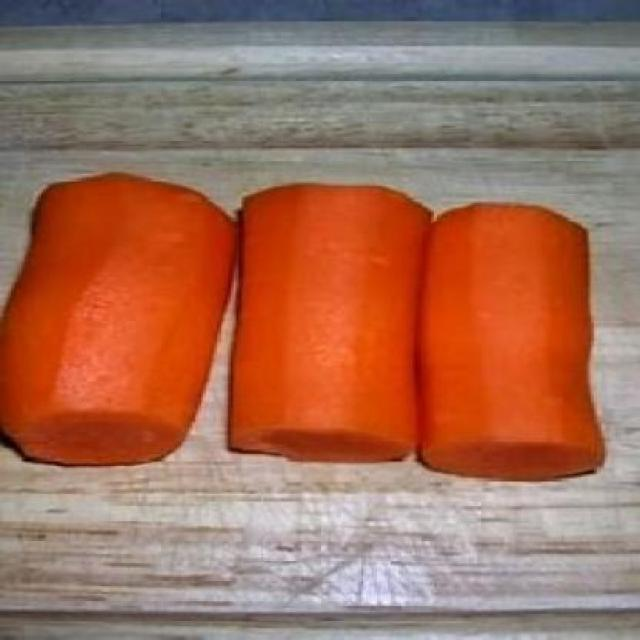carrot: (6, 176, 237, 472), (423, 172, 620, 488), (232, 178, 423, 480)
